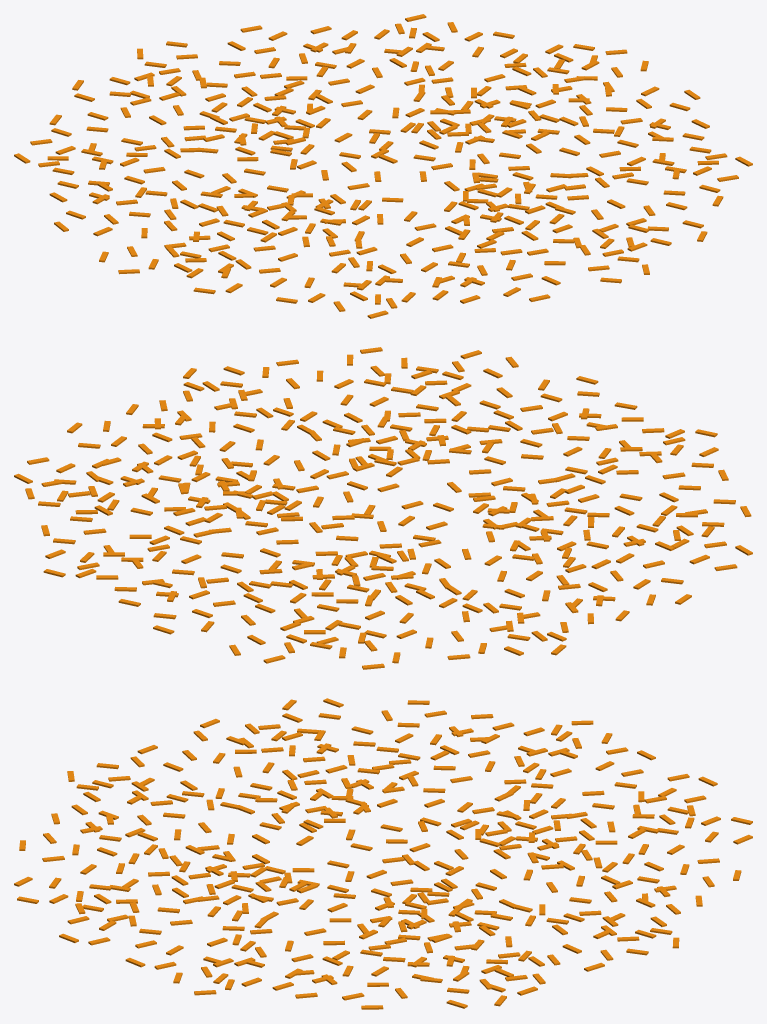
File: cheddar.glb
3 views of the same model, one above another, from view 1: azimuth 30°, elevation 25°; view 2: azimuth 150°, elevation 25°; view 3: azimuth 270°, elevation 25° (orthographic). The views are drawn at different scales.
Visible parts, largest first — view 1: mozzarella1; view 2: mozzarella1; view 3: mozzarella1.
Boxes of the visible parts, x1=… form: mozzarella1: x1=14, y1=14, x2=752, y2=318; mozzarella1: x1=14, y1=347, x2=752, y2=669; mozzarella1: x1=14, y1=698, x2=752, y2=1009.
Size of the model in its own units: 0.3394 by 0.00086 by 0.3421.
